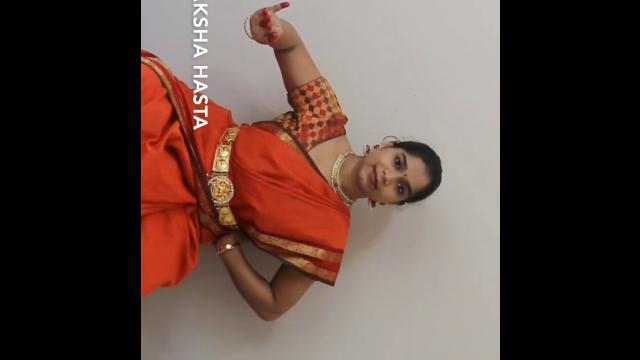Hamsapaksha: (235, 0, 300, 60)
